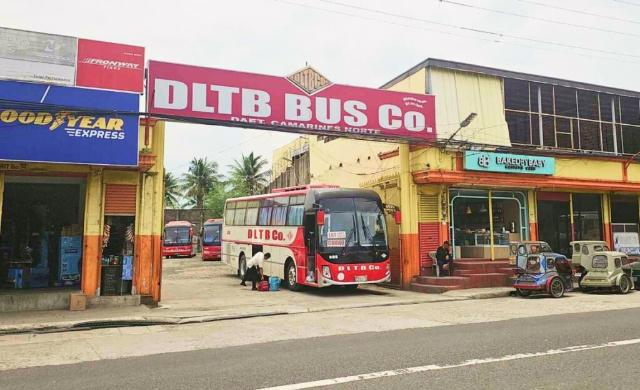bus: (223, 191, 401, 297), (162, 220, 197, 259), (201, 218, 228, 261)
